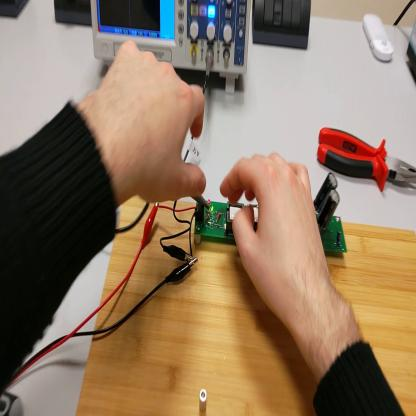hand: (89, 43, 208, 213), (221, 153, 334, 331)
high voltage board: (190, 168, 351, 256)
oscilloscope: (91, 3, 254, 75)
oscilloscope probe tip: (192, 195, 210, 209)
pliers: (316, 123, 415, 195)
socket: (56, 3, 91, 25), (1, 1, 30, 21)
working area: (77, 197, 416, 415)
